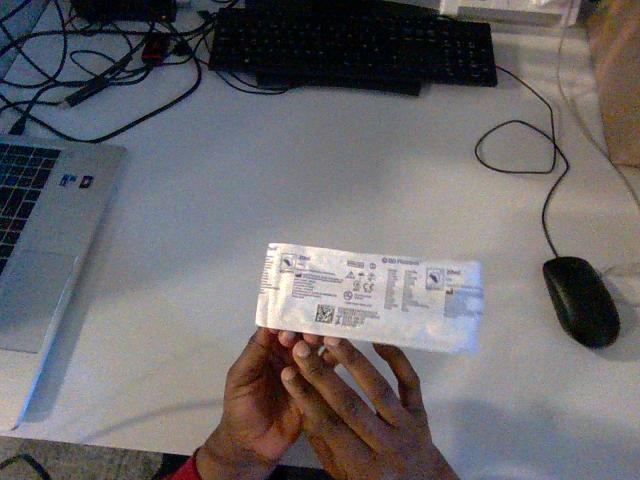syringe: (256, 243, 482, 352)
